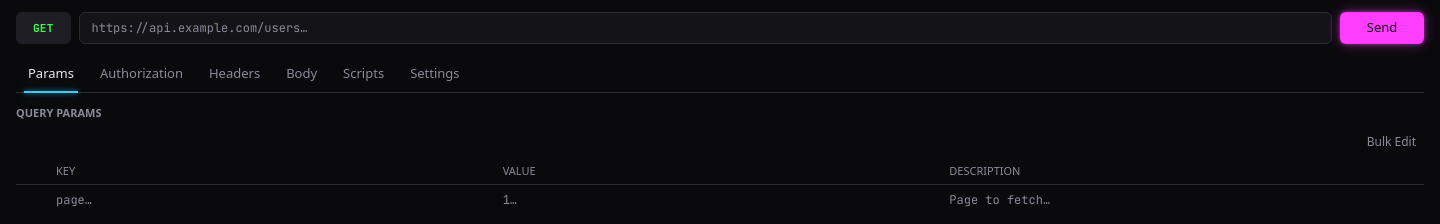
it: RequestBuilder › shows the auth editor the app composes in the Authorization tab
The width and height of the screenshot is (1440, 224).
Click the tab "Authorization".
click(142, 74)  # box 88,56 -> 195,92
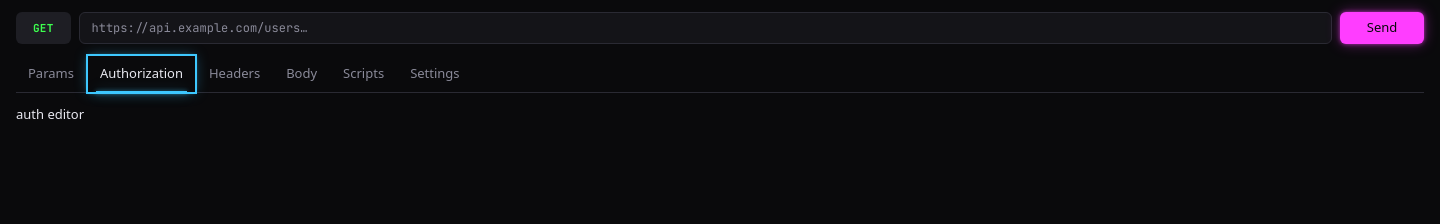
Result: the text "auth editor" is shown at 16,104 -> 84,122
